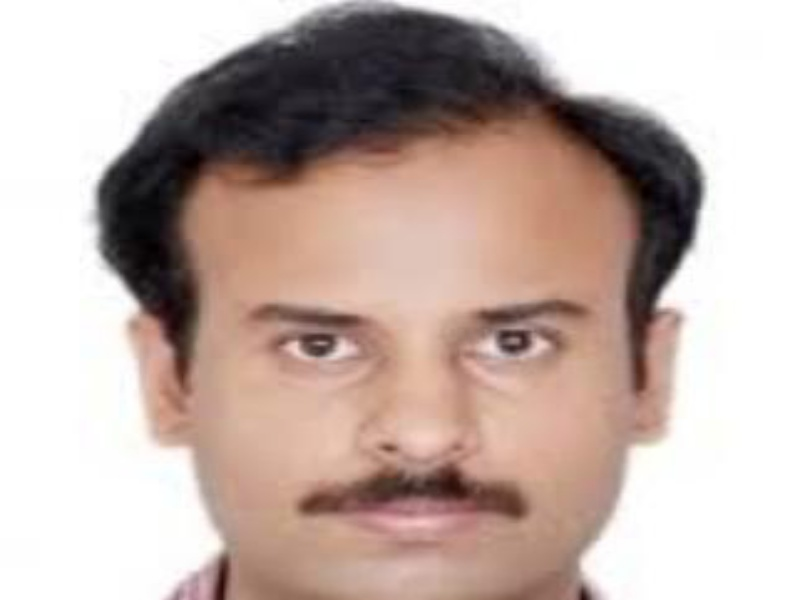TsisyArotava: (106, 61, 702, 600)
